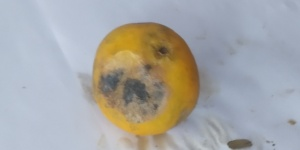BAD: (94, 29, 200, 131)
